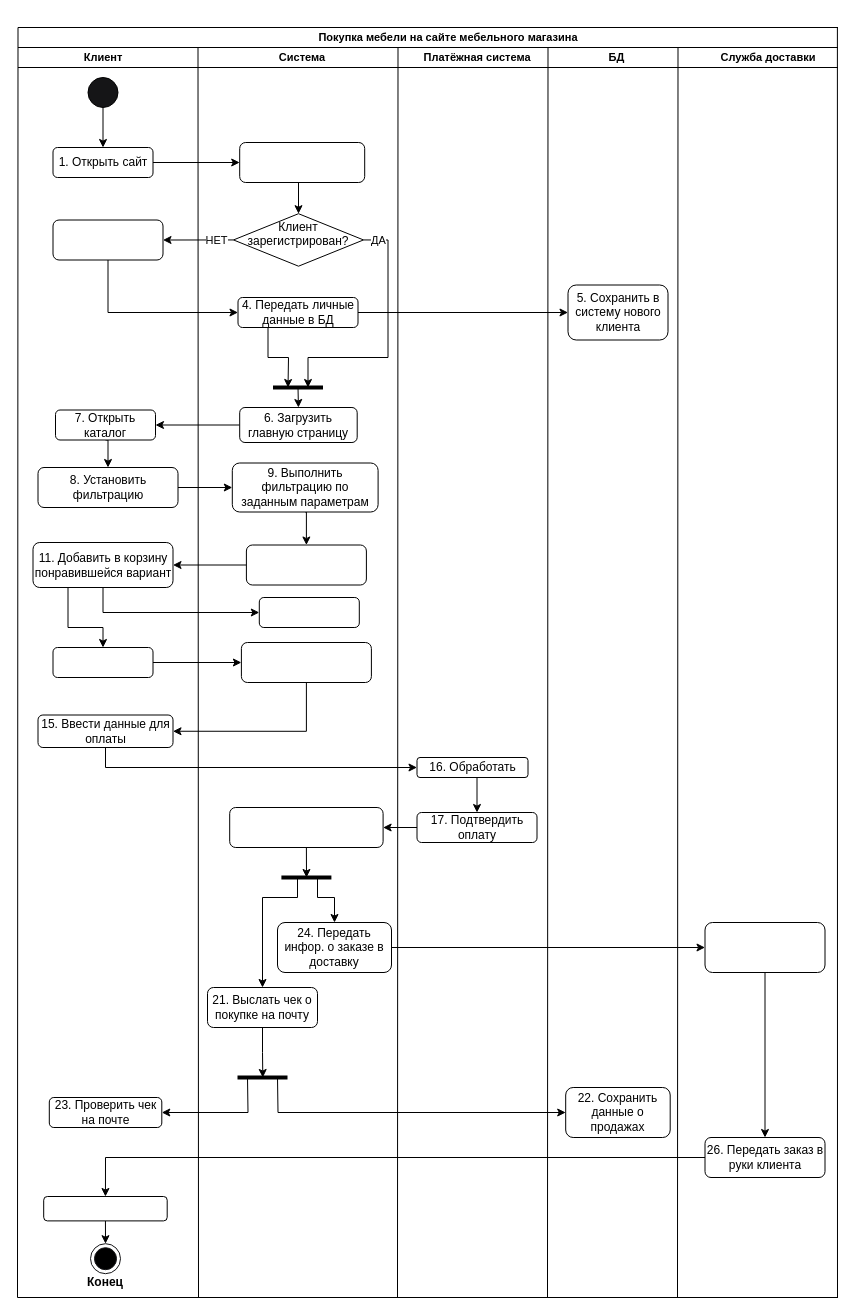
This 857x1316 diagram has some shape labels left out. The shapes that lost their labels are listed below. From the top down, each one's centre as x and y in pixels, then its label:
At (x=302, y=162): "2. Загрузить страницу регистрации".
At (x=107, y=239): "3. Ввести данные для регистрации".
At (x=305, y=564): "10. Показать все доступные варианты".
At (x=308, y=612): "12. Сохранить его в корзине".
At (x=102, y=662): "13. Перейти к оплате".
At (x=305, y=662): "14. Вывести окно для оформления заказа".
At (x=306, y=827): "18. Получить ответ от платёжной системы".
At (x=764, y=947): "25. Собрать заказ и отправить человека на адрес".
At (x=105, y=1208): "27. Получить товар".
